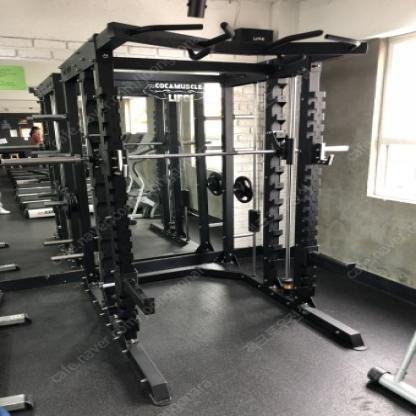smith machine: (78, 18, 370, 406)
